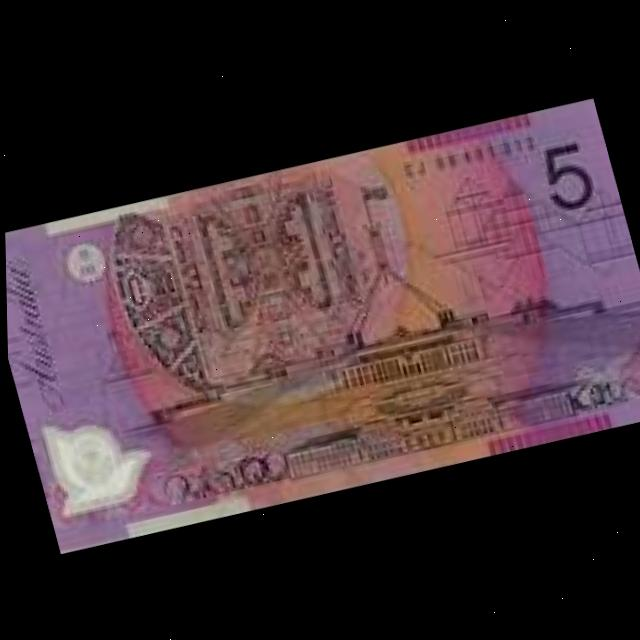banknote: (1, 80, 640, 561)
